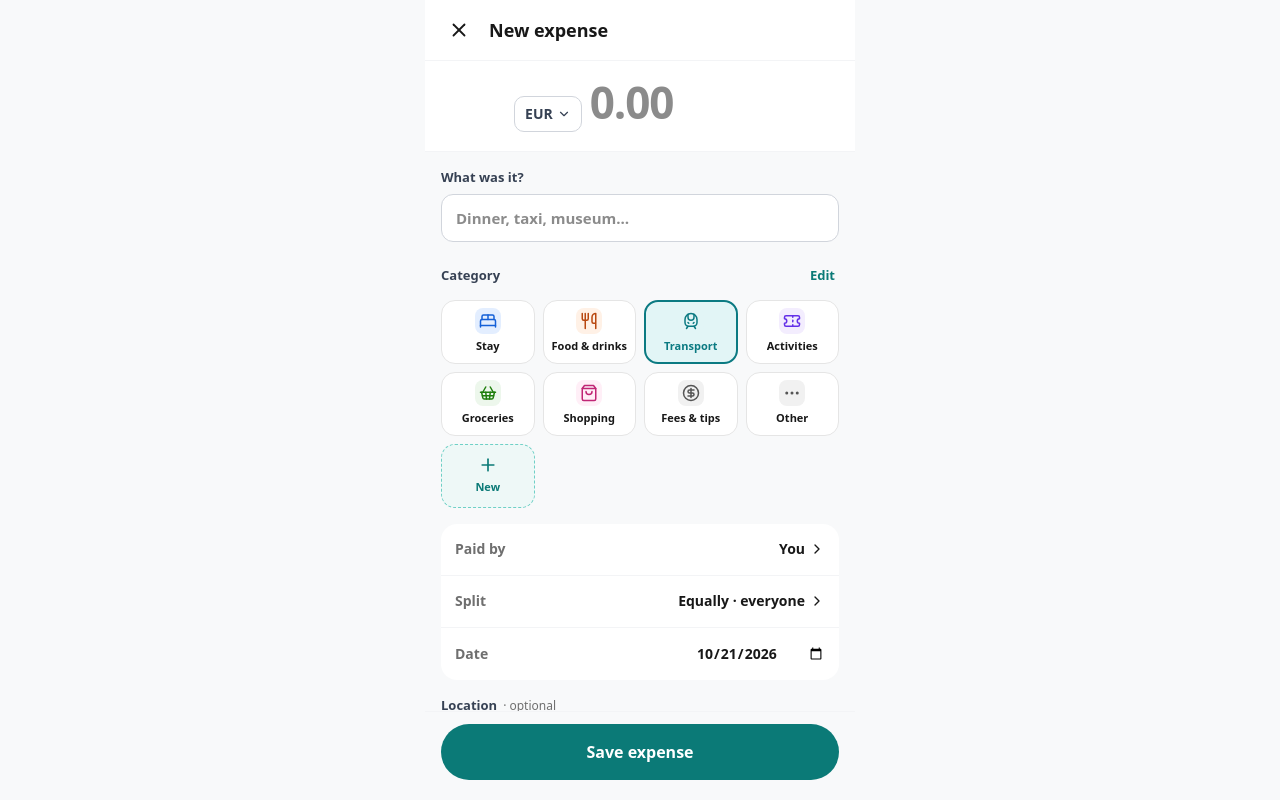
Test: currency picker › finds a currency by country name
This screenshot has width=1280, height=800.
Click the button with aria-label "Change currency" at (548, 114), box x1=514 y1=96 x2=582 y2=132
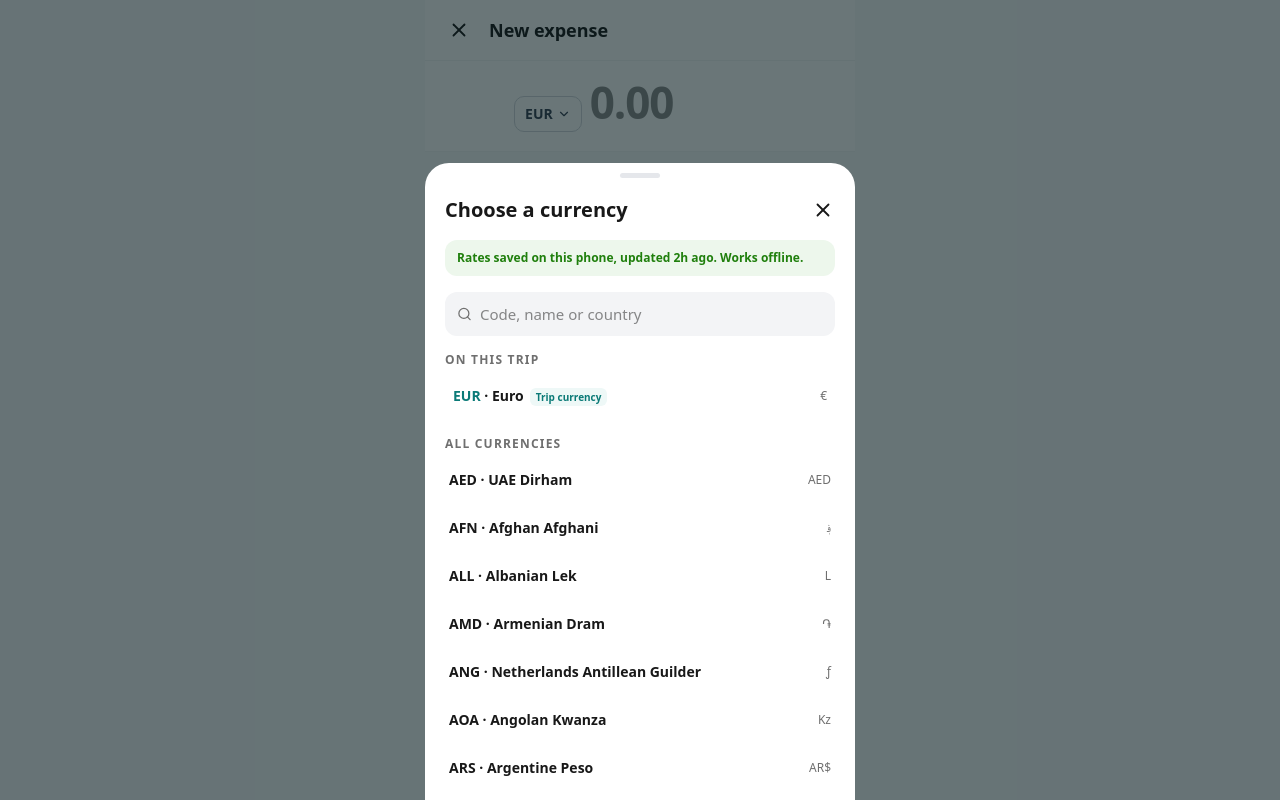
Type "Morocco" into the search field named "Search currencies" at (652, 314), box x1=480 y1=303 x2=823 y2=325
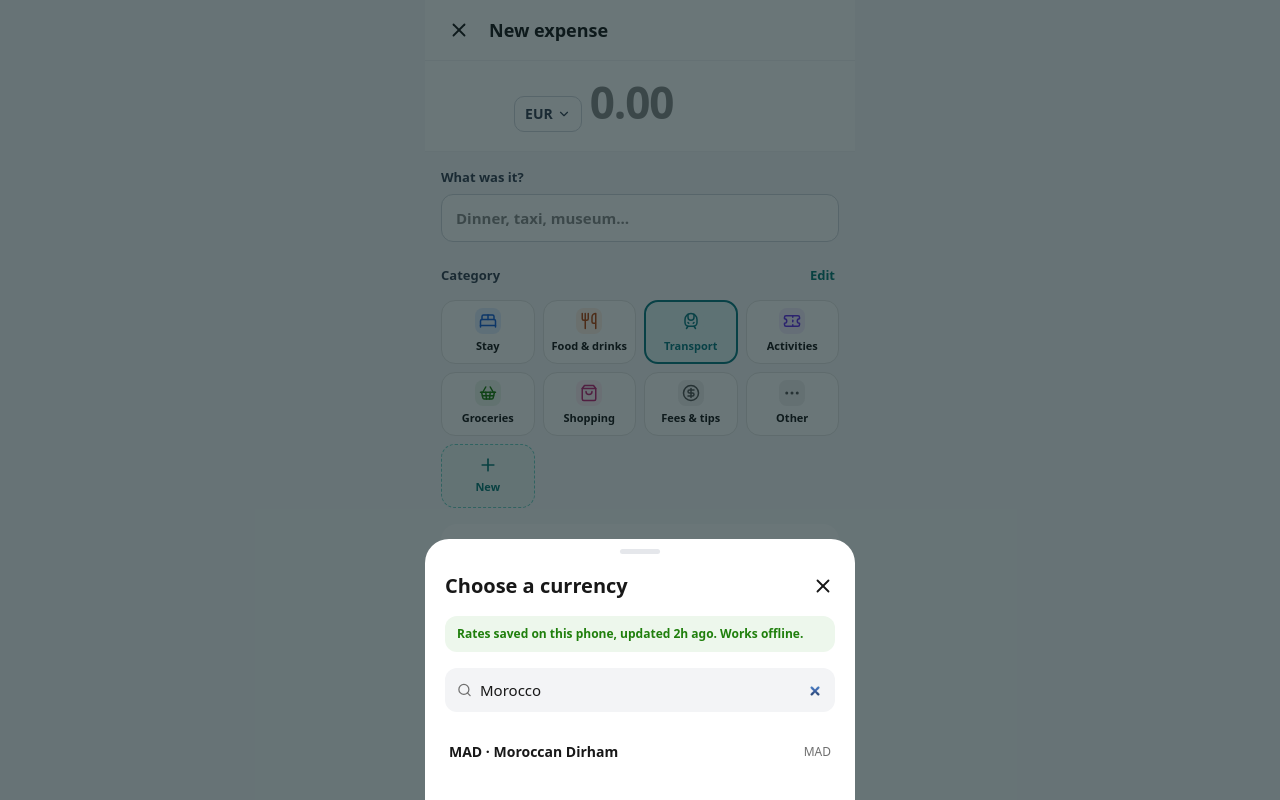
expect the button "MAD · Moroccan Dirham MAD" is shown: met, box x1=441 y1=728 x2=839 y2=776
